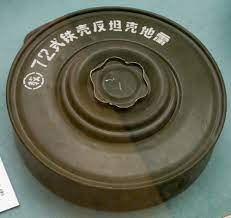car: (2, 7, 231, 214)
